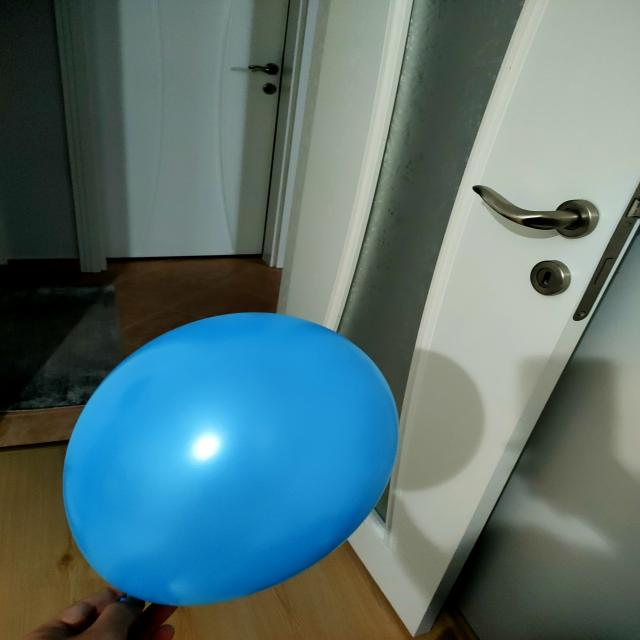blue: (66, 313, 403, 610)
